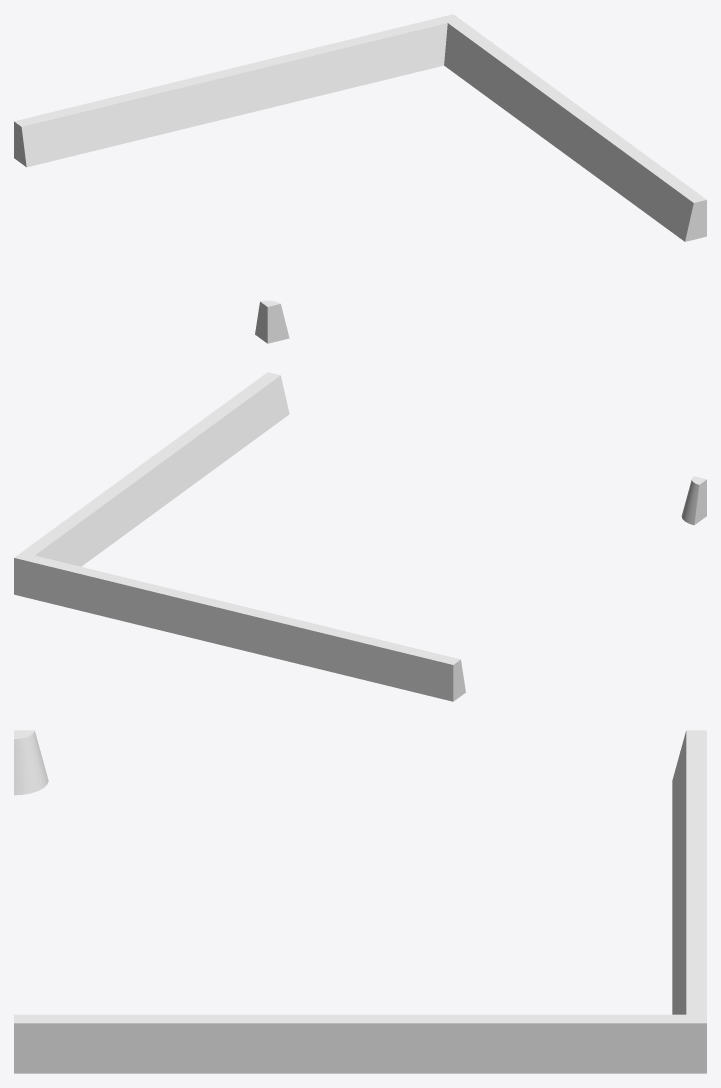
File: road-bend-square-barrier.glb
3 renders of one model, top to bottom at view 1: azimuth 30°, elevation 25°; view 2: azimuth 150°, elevation 25°; view 3: azimuth 270°, elevation 25°, orthographic. The views are drawn at different scales.
Parts seen in each view (by area): view 1: road-bend-square-barrier; view 2: road-bend-square-barrier; view 3: road-bend-square-barrier.
Part boxes in pixels (box(x1,y1,x2,y2)): road-bend-square-barrier: box(14, 14, 706, 343); road-bend-square-barrier: box(14, 372, 706, 701); road-bend-square-barrier: box(14, 730, 706, 1073).
Size of the model in its own units: 1 by 0.08 by 1.
1 material, 1 textured.
